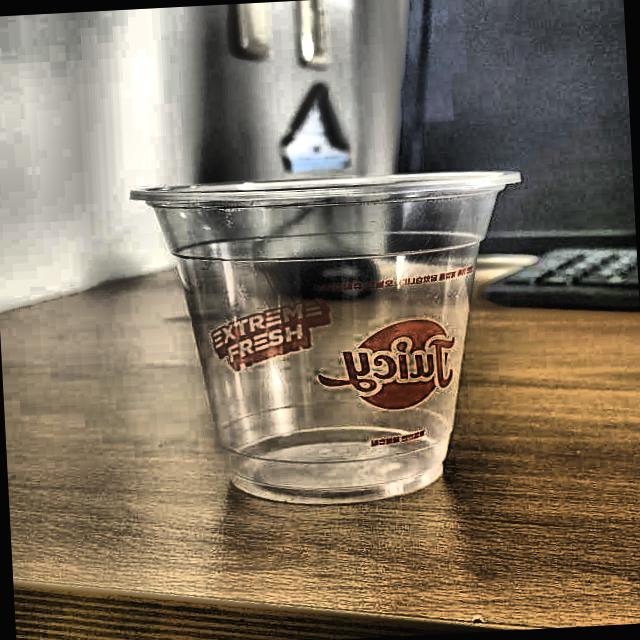plastic cup: (119, 162, 542, 512)
